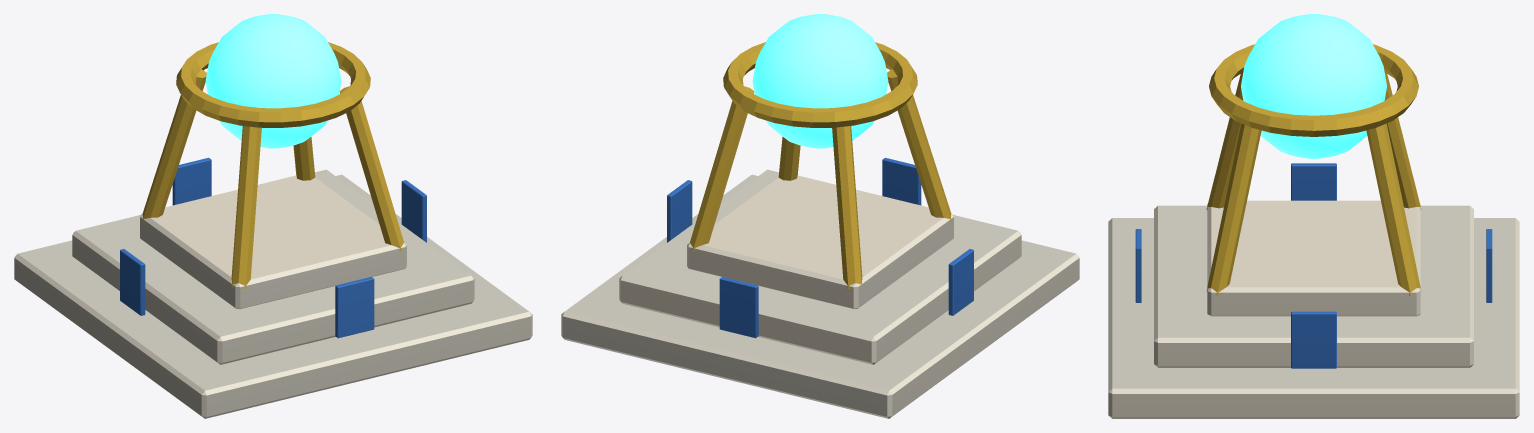
File: orbecommandement.glb
The picture shows the model from 3 angles, left to right: view 1: azimuth 30°, elevation 25°; view 2: azimuth 150°, elevation 25°; view 3: azimuth 270°, elevation 25°; orthographic projection. The views are drawn at different scales.
Visible parts, largest first — view 1: orbecommandement; view 2: orbecommandement; view 3: orbecommandement.
Boxes of the visible parts, box(x1,y1,x2,y2) form: orbecommandement: box(14, 14, 532, 418); orbecommandement: box(561, 14, 1079, 418); orbecommandement: box(1108, 14, 1519, 418).
Bounding box in the file's own units: 2.7 × 2.27 × 2.7.
